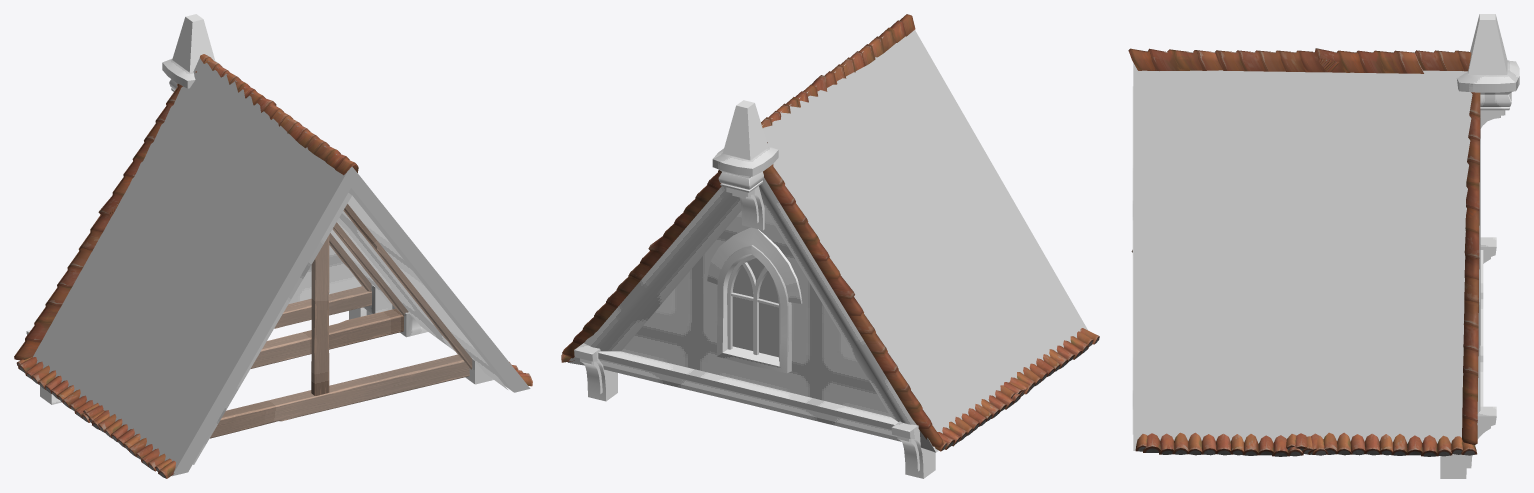
Rendered from SM_BlacksmithS_Roof_Module_A_GlassWindow.fbx.
The picture shows the model from 3 angles, left to right: view 1: azimuth 30°, elevation 25°; view 2: azimuth 150°, elevation 25°; view 3: azimuth 270°, elevation 25°; orthographic projection. The views are drawn at different scales.
Visible parts, largest first — view 1: SM_BlacksmithS_Roof_Module_A_GlassWindow_LOD0; view 2: SM_BlacksmithS_Roof_Module_A_GlassWindow_LOD0; view 3: SM_BlacksmithS_Roof_Module_A_GlassWindow_LOD0.
Part boxes in pixels (<box>): SM_BlacksmithS_Roof_Module_A_GlassWindow_LOD0: <box>14,14,532,478</box>; SM_BlacksmithS_Roof_Module_A_GlassWindow_LOD0: <box>561,14,1099,478</box>; SM_BlacksmithS_Roof_Module_A_GlassWindow_LOD0: <box>1128,14,1519,478</box>.
Size of what is drawn, in the model's own units: 8.48 by 7.17 by 6.82.
